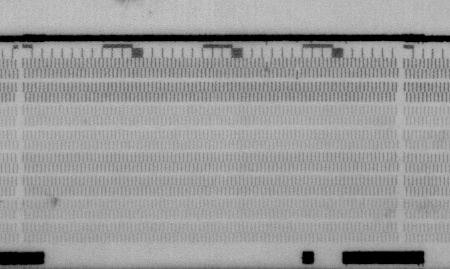Oblique printing: (261, 55, 273, 72), (292, 67, 304, 81)
